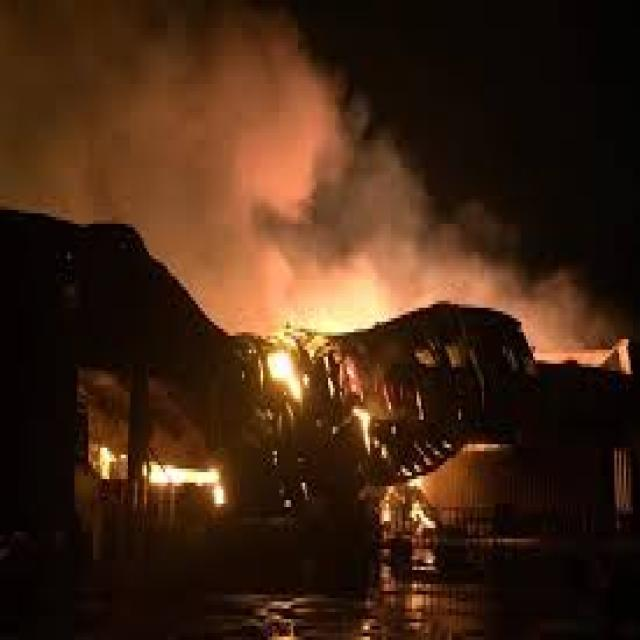Fire: (147, 456, 233, 506), (262, 338, 314, 407)
Smoke: (5, 2, 638, 356)
